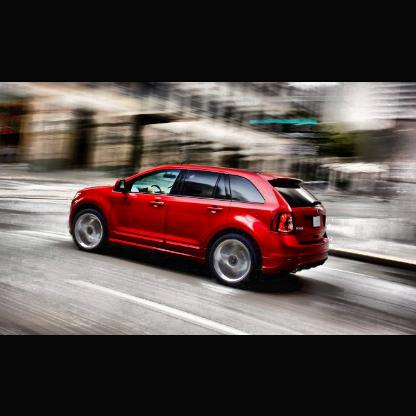Ford Edge SUV 2012: (70, 157, 333, 290)
